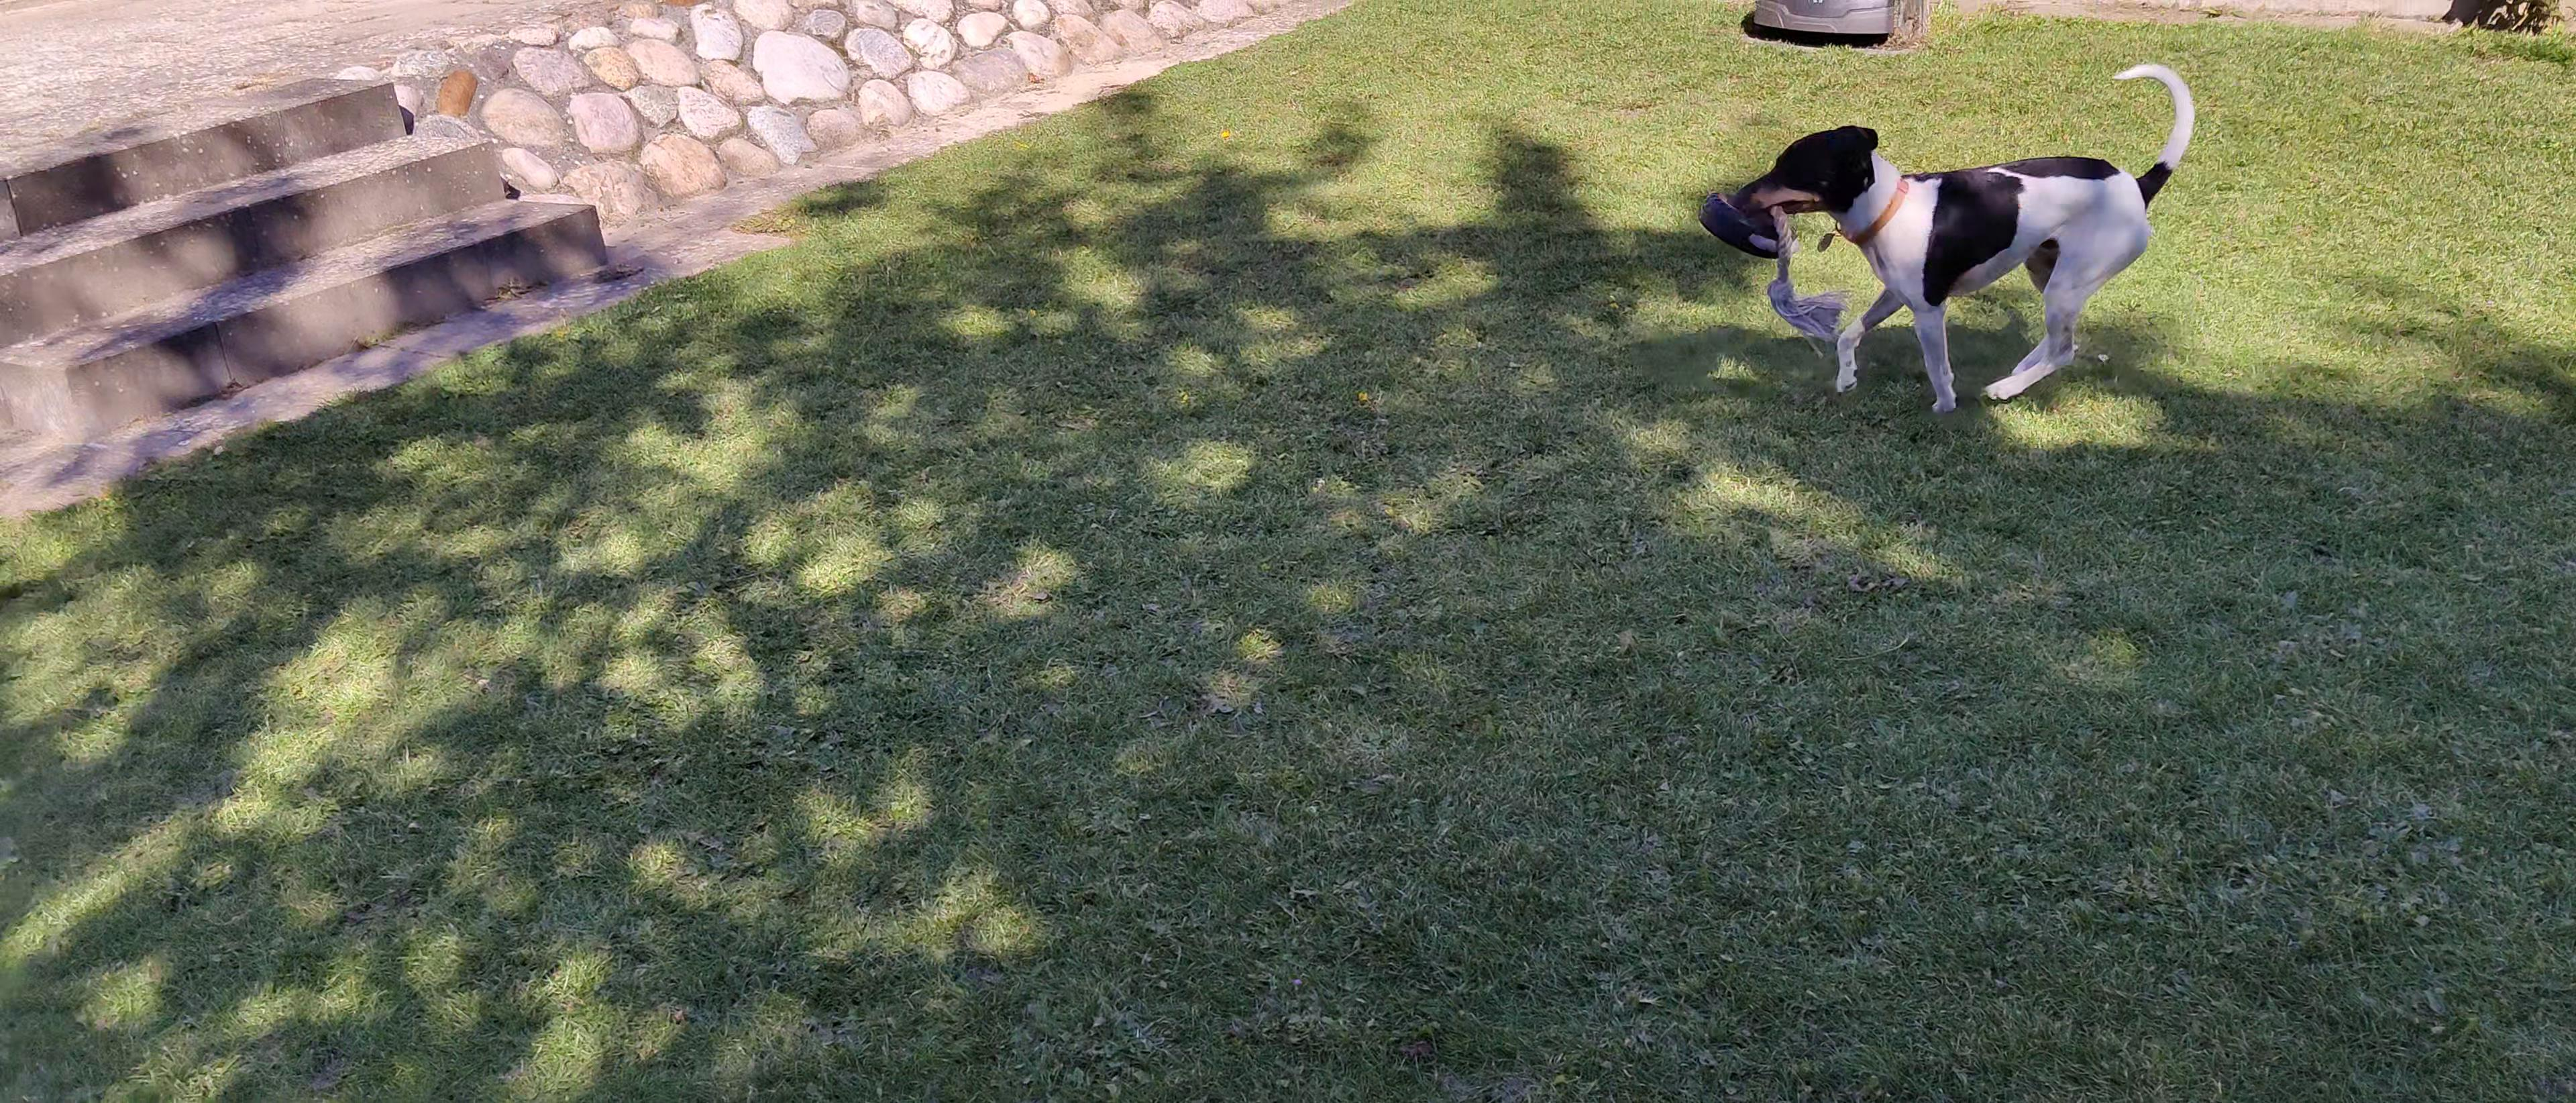Dog: (1717, 54, 2208, 404)
